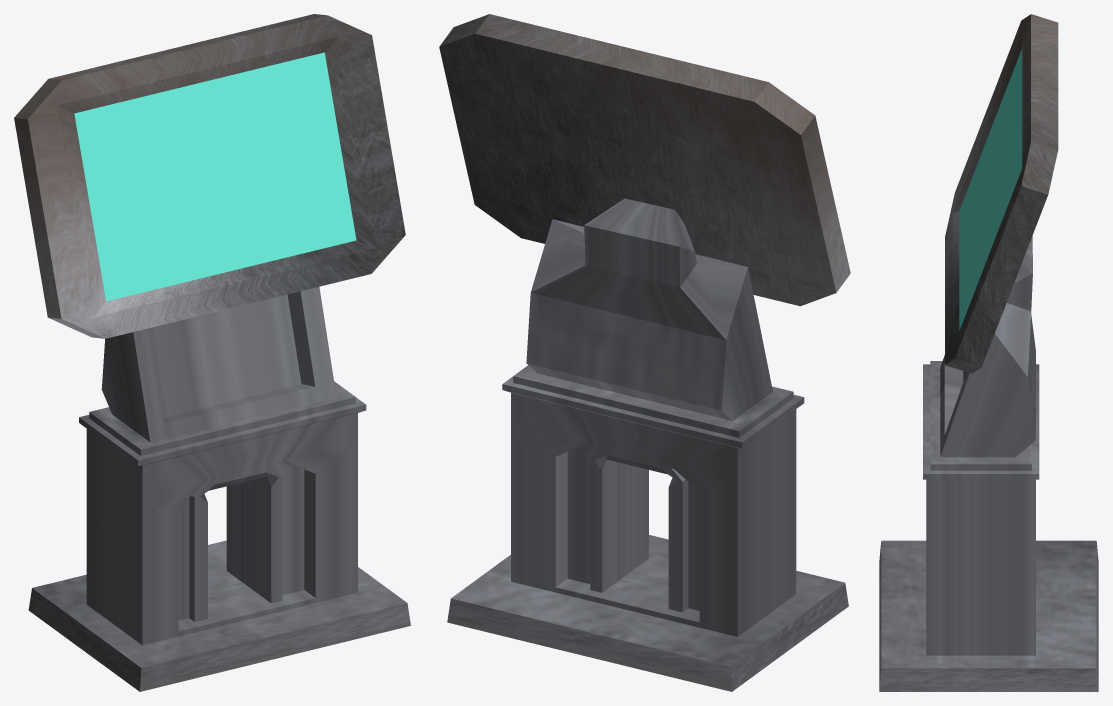
The model's file is Tableta11.fbx.
3 views of the same model, side by side, from view 1: azimuth 30°, elevation 25°; view 2: azimuth 150°, elevation 25°; view 3: azimuth 270°, elevation 25° (orthographic). The views are drawn at different scales.
Visible parts, largest first — view 1: Tablet; view 2: Tablet; view 3: Tablet.
Boxes of the visible parts, left/top/right/bottom form: Tablet: left=14, top=14, right=410, bottom=691; Tablet: left=439, top=14, right=850, bottom=691; Tablet: left=879, top=14, right=1098, bottom=691.
Bounding box in the file's own units: 357 × 551 × 200.
2 materials, 1 textured.
